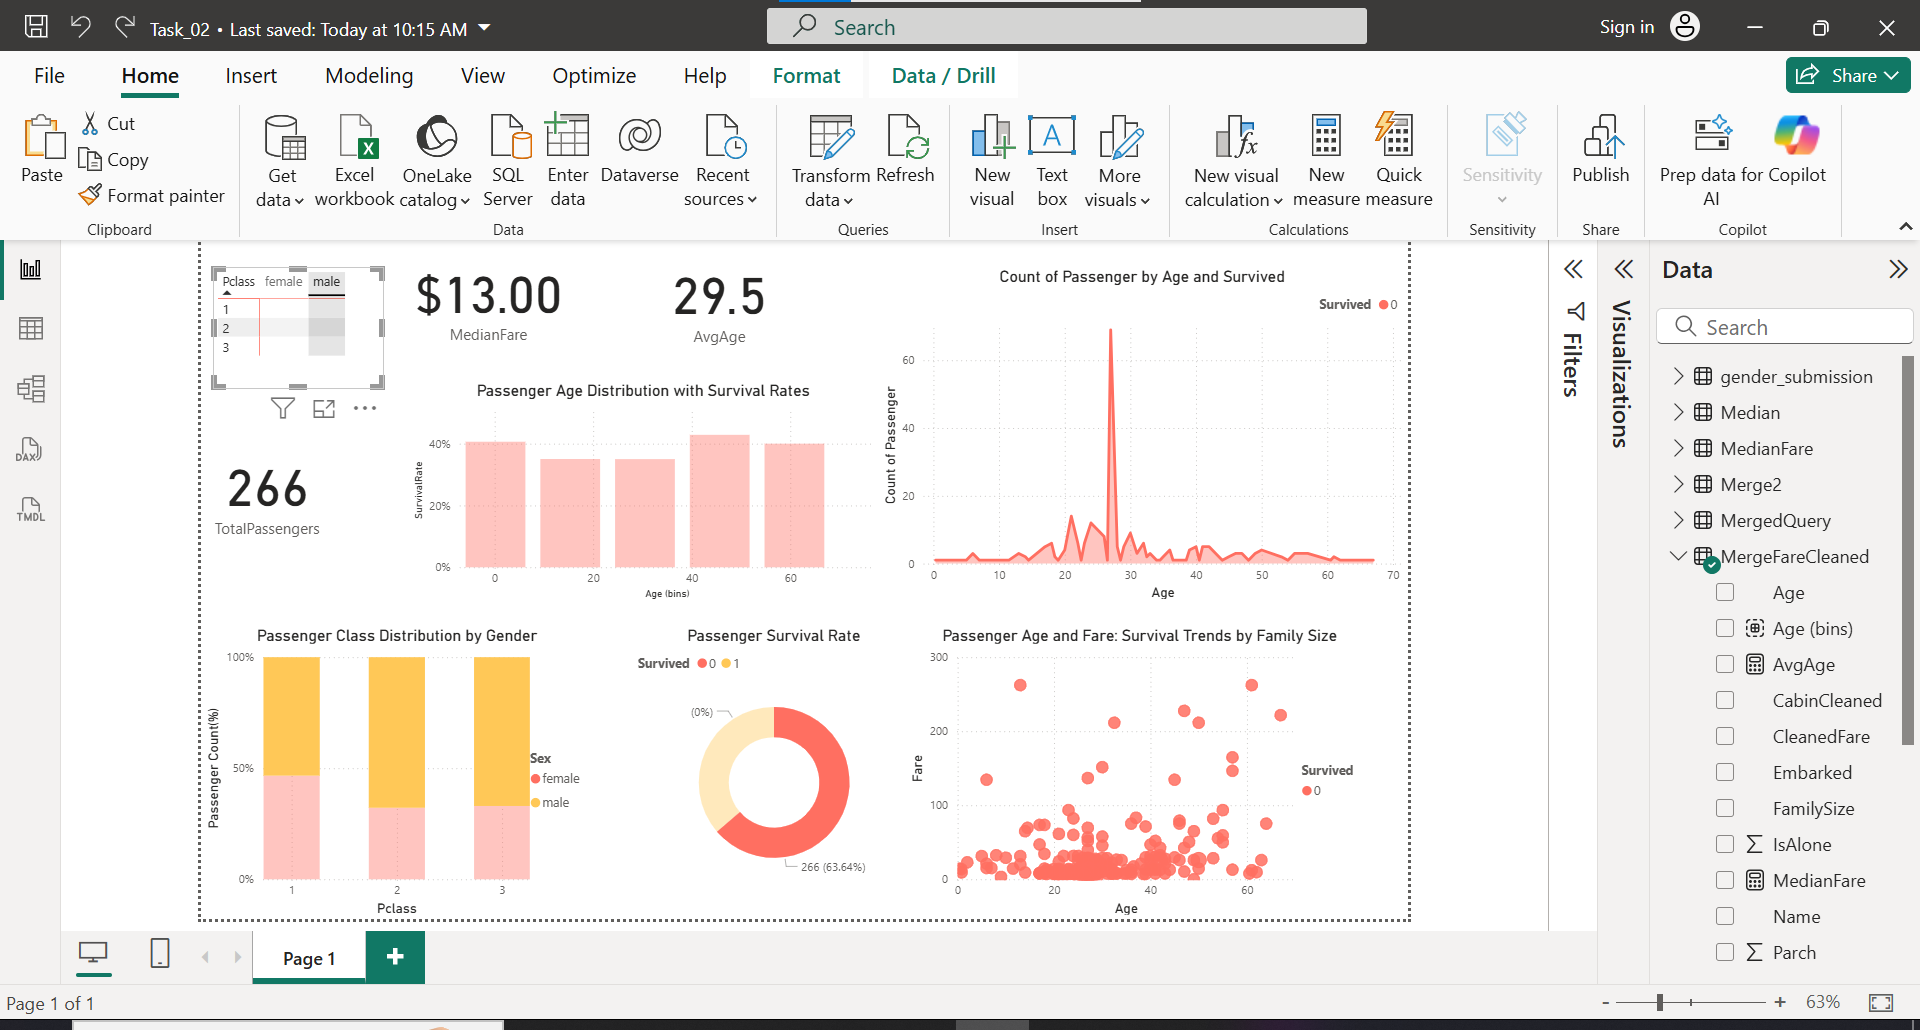

The page's visual inventory and layout, read from the dashboard file:
{"tool":"powerbi","page":{"name":"Page 1","canvas":[1280,720],"ordinal":0},"visuals":[{"type":"donutChart","title":"Passenger Survival Rate","fields":{"Category":["MergeFareCleaned.Survived"],"Y":["CountNonNull(MergeFareCleaned.PassengerId)"]},"box":[457.3,408.2,298.6,283.5],"z":0},{"type":"hundredPercentStackedColumnChart","title":"Passenger Class Distribution by Gender","fields":{"Category":["MergeFareCleaned.Pclass"],"Y":["CountNonNull(MergeFareCleaned.PassengerId)"],"Series":["MergeFareCleaned.Sex"]},"box":[0,408.2,415.8,311.8],"z":1000},{"type":"card","fields":{"Values":["MergeFareCleaned.TotalPassengers"]},"box":[0,160.6,139.8,211.7],"z":2000},{"type":"card","fields":{"Values":["MergeFareCleaned.AVGAgAvgAge"]},"box":[434.6,3.8,230.6,119.1],"z":3000},{"type":"clusteredColumnChart","title":"Passenger Age Distribution with Survival Rates","fields":{"Y":["MergeFareCleaned.SurvivalRate"],"Category":["MergeFareCleaned.AgeCleaned (bins)"]},"box":[219.2,149.3,498.9,236.2],"z":4000},{"type":"scatterChart","title":"Passenger Age and Fare: Survival Trends by Family Size","fields":{"X":["MergeFareCleaned.Age"],"Y":["MergeFareCleaned.CleanedFare"],"Series":["MergeFareCleaned.Survived"],"Size":["CountNonNull(MergeFareCleaned.FamilySize)"]},"box":[746.5,408.2,498.9,311.8],"z":5000},{"type":"pivotTable","fields":{"Columns":["MergeFareCleaned.Sex"],"Rows":["MergeFareCleaned.Pclass"]},"box":[13.2,28.3,181.4,128.5],"z":6000},{"type":"stackedAreaChart","title":"Count of Passenger by Age and Survived","fields":{"Category":["MergeFareCleaned.Age"],"Series":["MergeFareCleaned.Survived"],"Y":["CountNonNull(MergeFareCleaned.PassengerId)"]},"box":[718.1,28.3,561.3,357.2],"z":7000},{"type":"card","fields":{"Values":["MergeFareCleaned.MedianFare"]},"box":[194.6,0,221.1,122.8],"z":8000}]}

Visuals, with their boxes on the page's 1280x720 design canvas (x1, y1, x2, y2). These are canvas units, not pixel positions in the 1920x1030 screenshot, which may show the page scaled, cropped or inside an application window:
"Passenger Survival Rate" donutChart: l=457, t=408, r=756, b=692
"Passenger Class Distribution by Gender" hundredPercentStackedColumnChart: l=0, t=408, r=416, b=720
card - MergeFareCleaned.TotalPassengers: l=0, t=161, r=140, b=372
card - MergeFareCleaned.AVGAgAvgAge: l=435, t=4, r=665, b=123
"Passenger Age Distribution with Survival Rates" clusteredColumnChart: l=219, t=149, r=718, b=386
"Passenger Age and Fare: Survival Trends by Family Size" scatterChart: l=746, t=408, r=1245, b=720
pivotTable - MergeFareCleaned.Sex x MergeFareCleaned.Pclass: l=13, t=28, r=195, b=157
"Count of Passenger by Age and Survived" stackedAreaChart: l=718, t=28, r=1279, b=386
card - MergeFareCleaned.MedianFare: l=195, t=0, r=416, b=123
